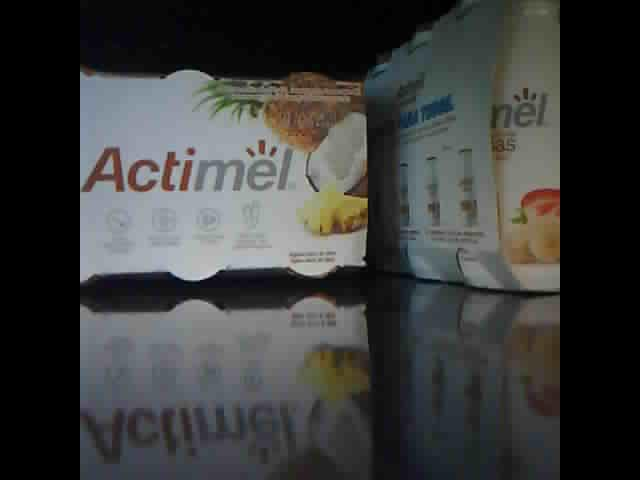actimel: (81, 60, 370, 287), (364, 1, 560, 296)
